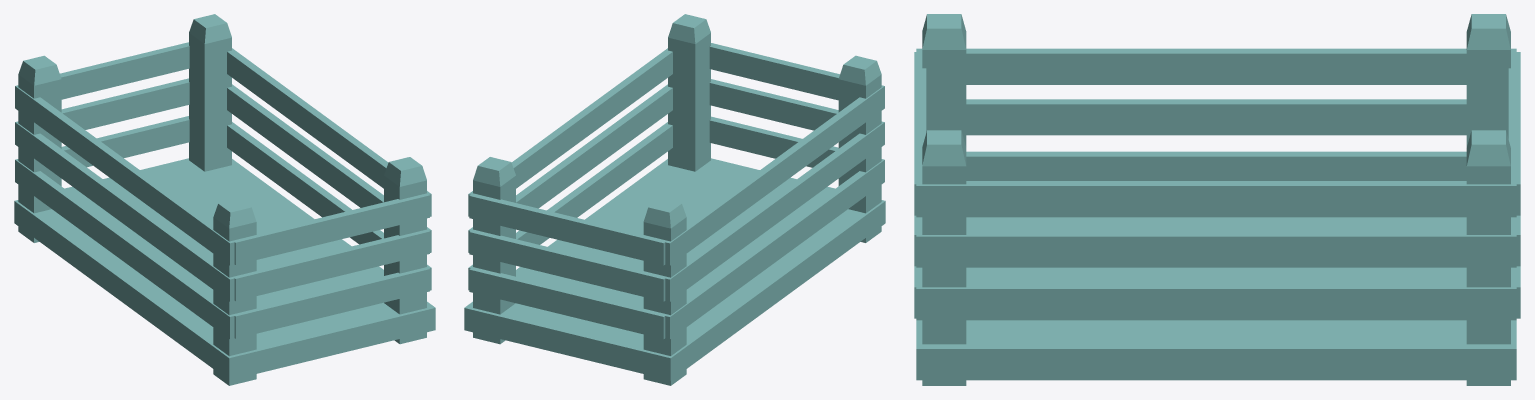
File: spice box.fbx
The picture shows the model from 3 angles, left to right: view 1: azimuth 30°, elevation 25°; view 2: azimuth 150°, elevation 25°; view 3: azimuth 270°, elevation 25°; orthographic projection. The views are drawn at different scales.
Parts seen in each view (by area): view 1: polySurface6218; view 2: polySurface6218; view 3: polySurface6218.
Part boxes in pixels (x1,y1,x2,y2): polySurface6218: (14,14,435,385); polySurface6218: (464,14,885,385); polySurface6218: (914,14,1520,385).
Size of the model in its own units: 0.2443 by 0.1936 by 0.4449.
